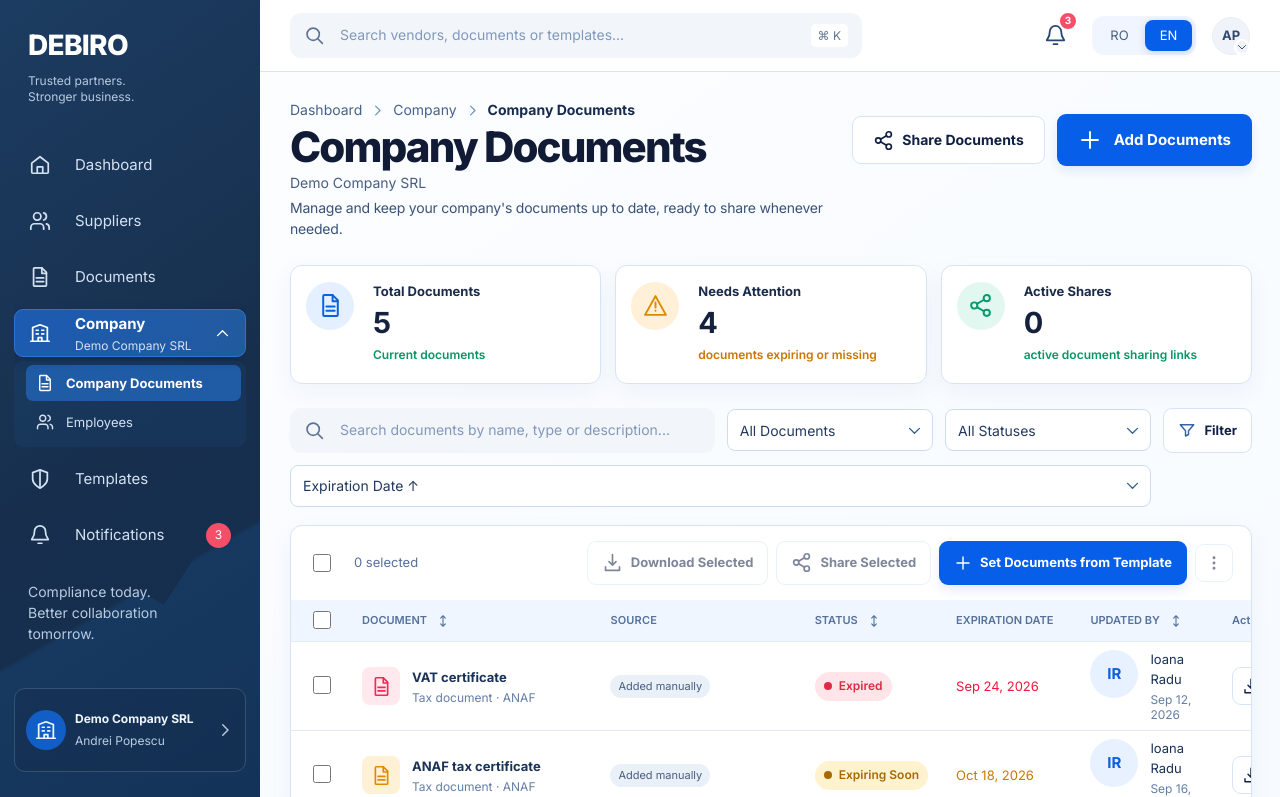
Test: Company Documents shared listing UI › rejects a selected template that becomes cross-scope without changing document data or reporting success
Click the button "Set Documents from Template" at (1063, 563), box [939, 541, 1187, 585]
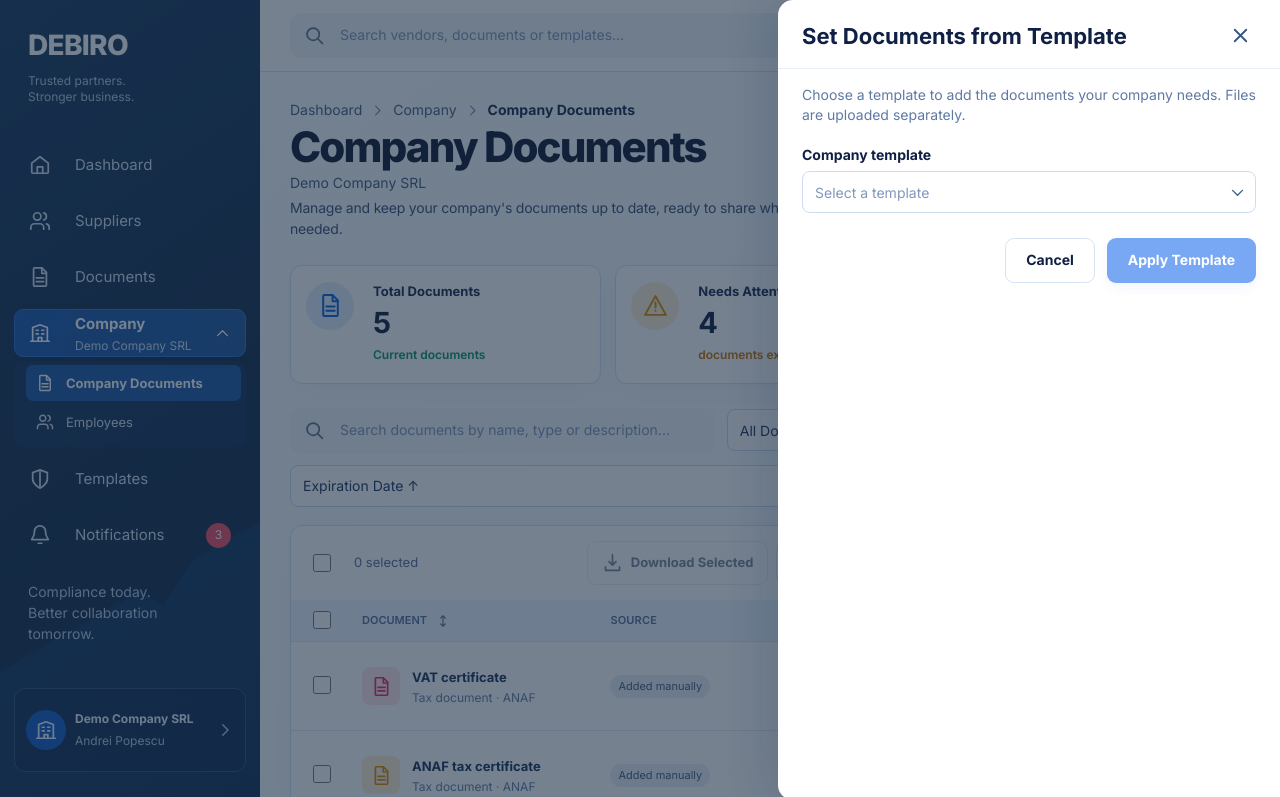
Select "Construction subcontractor" in the dropdown with id "company-template" at (1029, 192), box [802, 171, 1256, 213]
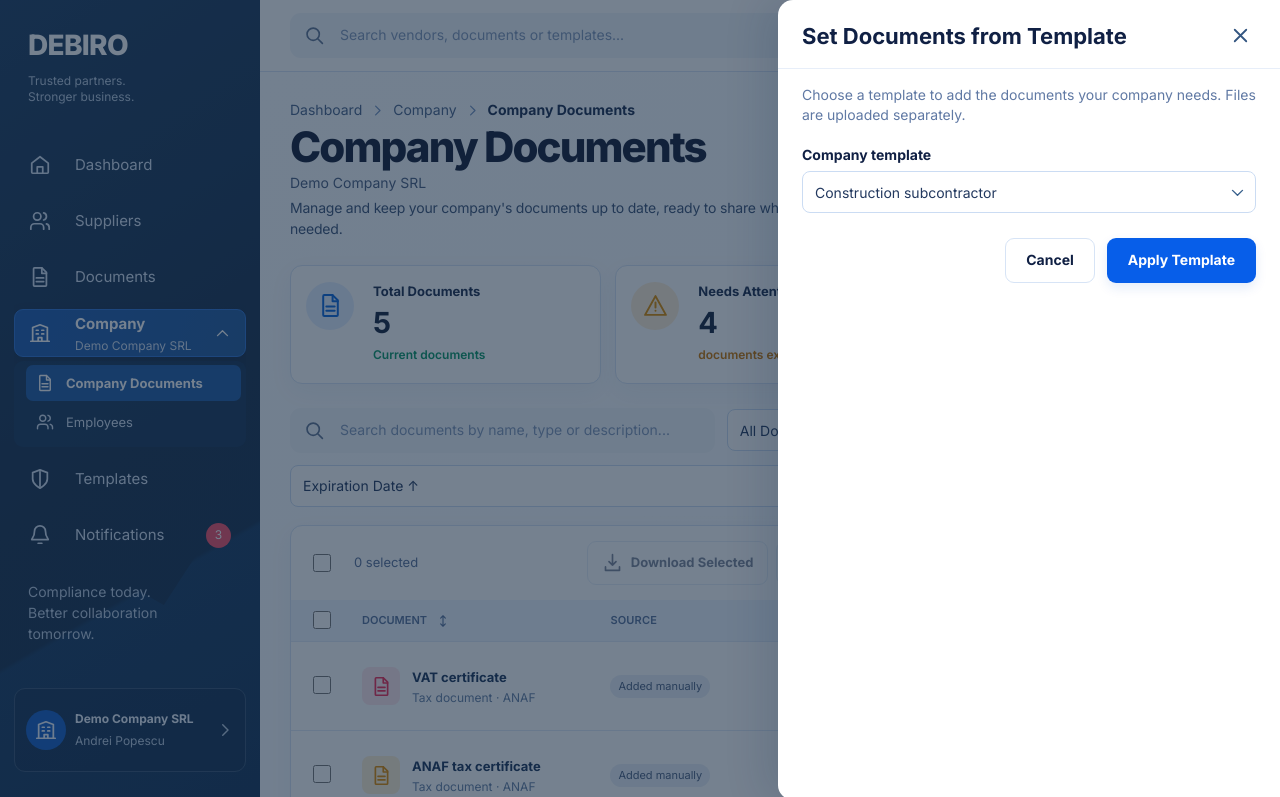
Click the button "Apply Template" at (1181, 261), box [1107, 238, 1256, 283]
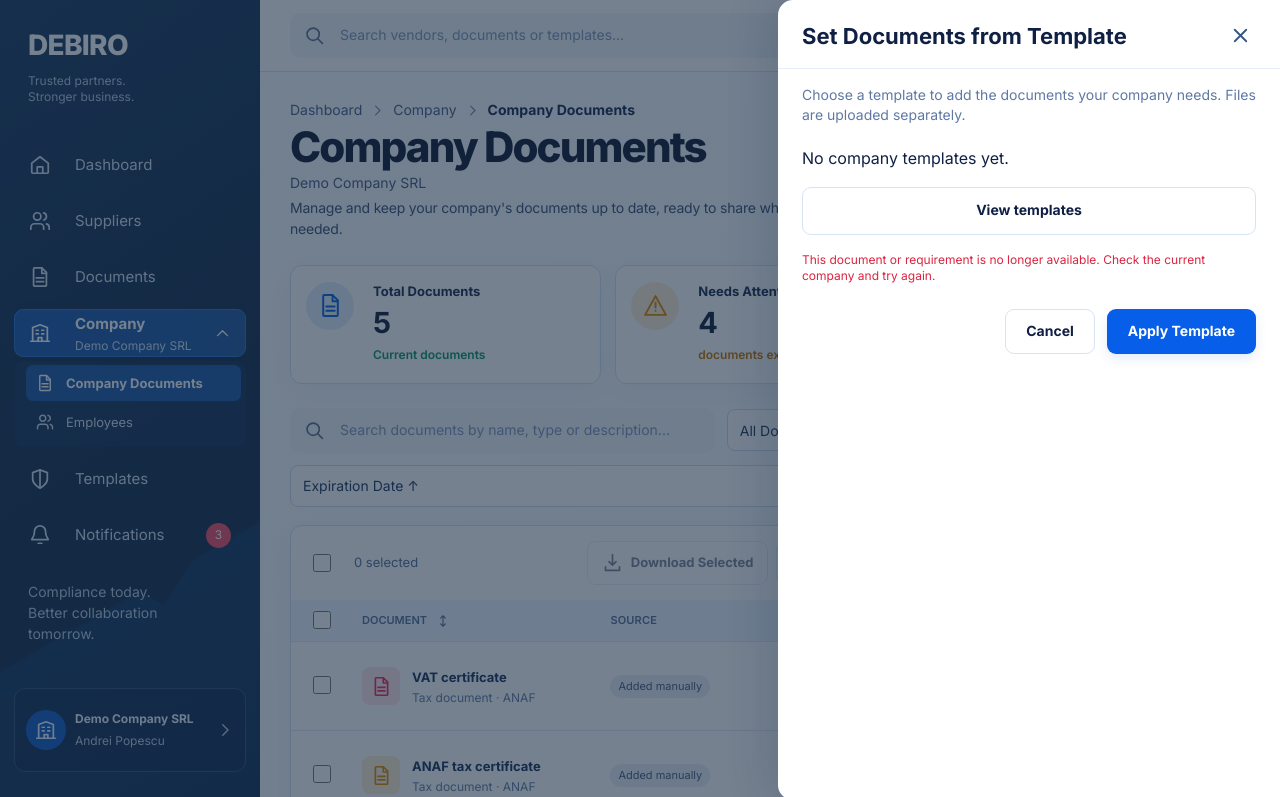
Result: the message shows "This document or requirement is no longer available. Check the current company and try again." at [802, 252, 1205, 283]
